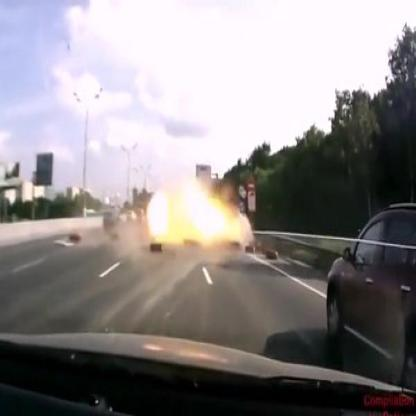fire: (142, 175, 245, 250)
